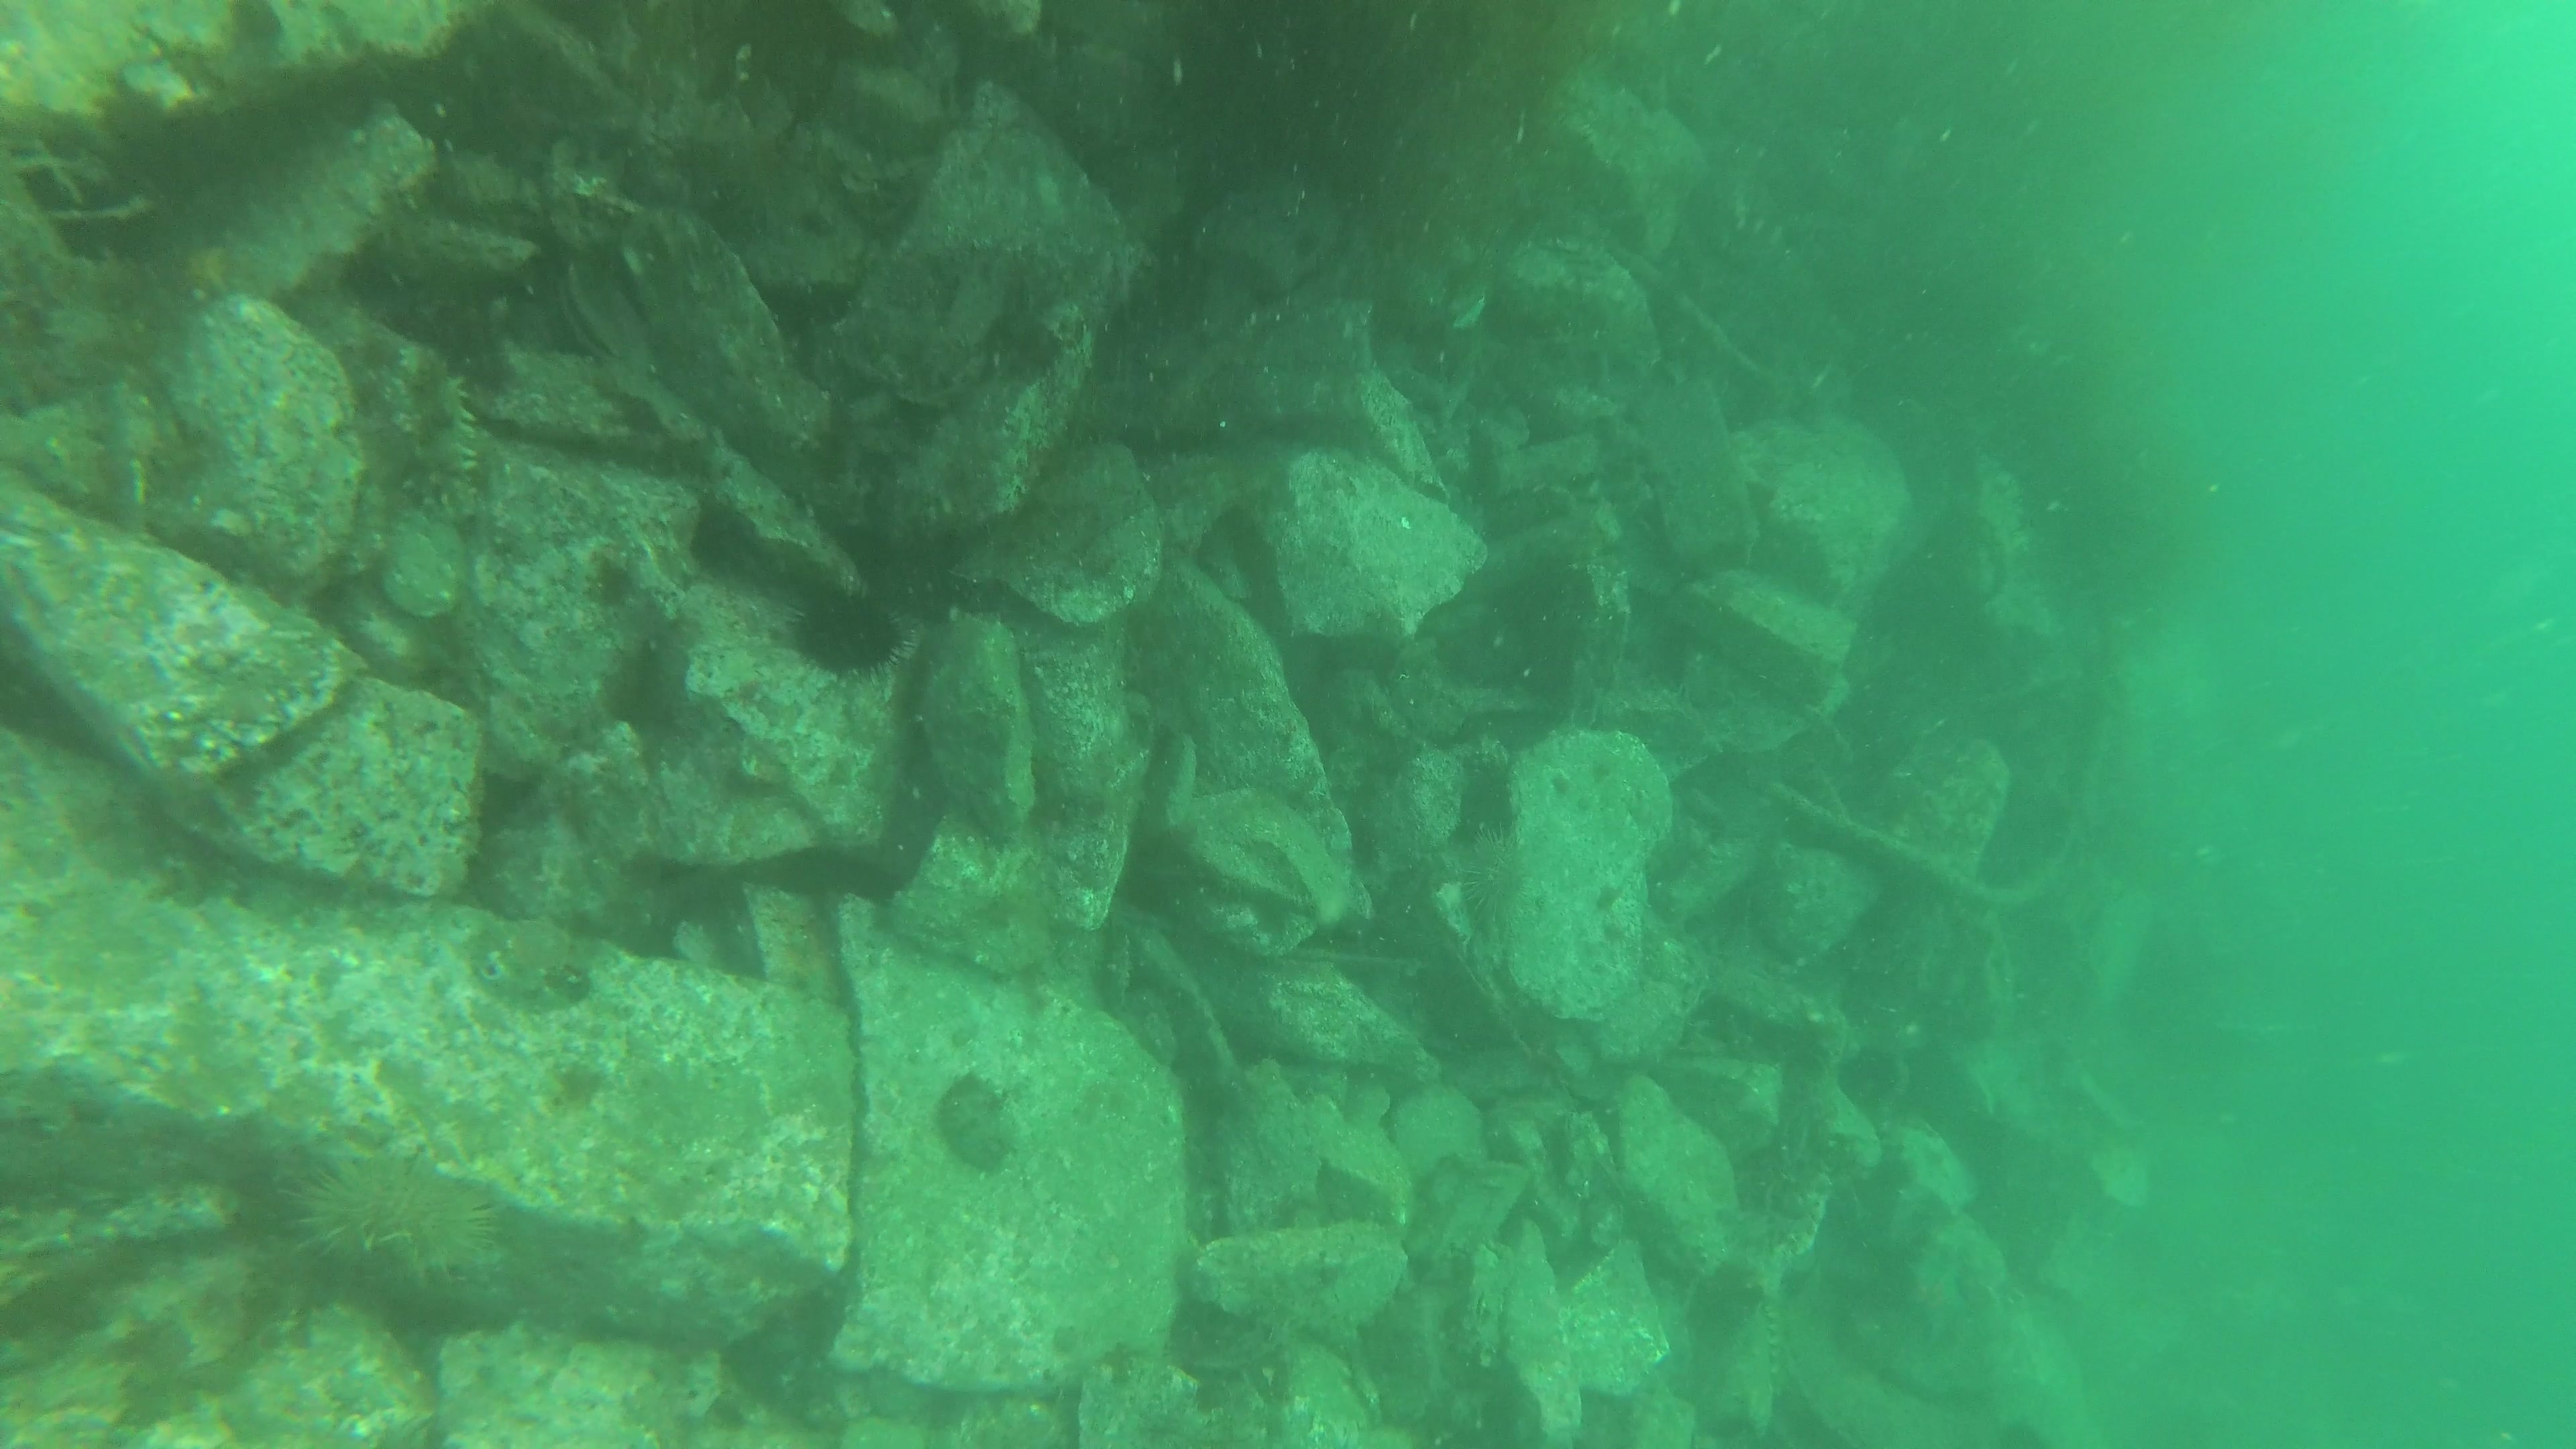echinus: (287, 1145, 502, 1297), (782, 577, 908, 683)
holothurian: (373, 341, 492, 591)
